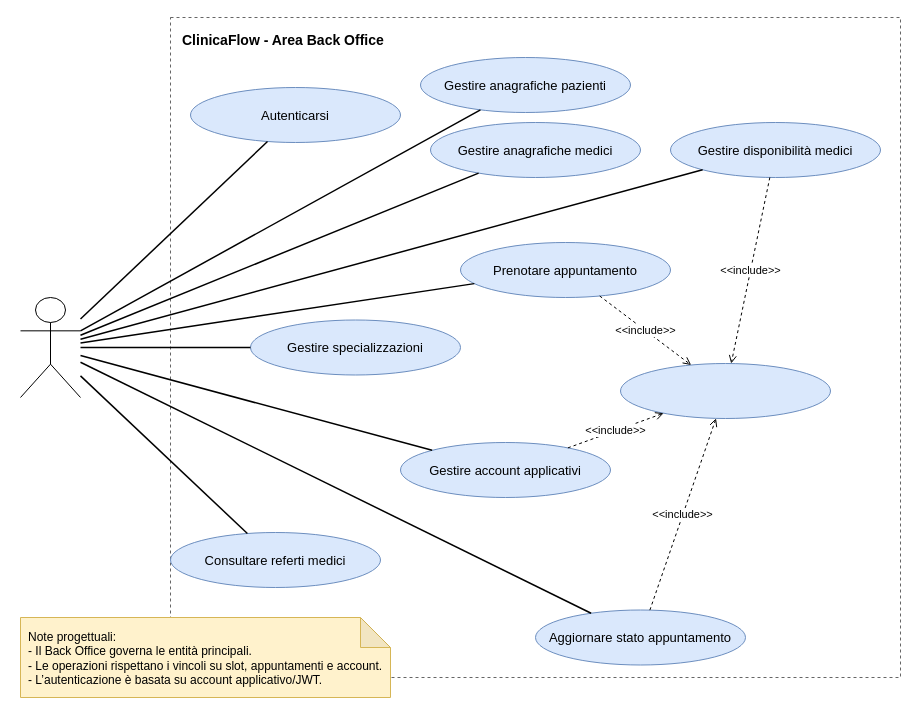
The diagram is 918 pixels wide and 715 high, and some of its shapes have lost their labels. The shapes that lost their labels are listed below. From the top down, each one's centre as x and y in pixels, then its label:
the point at 50,347: Back Office
the point at 725,390: Applicare regole di coerenza
